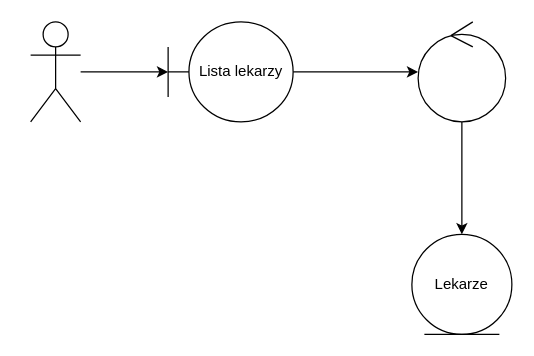
The diagram is 534 pixels wide and 356 high, and some of its shapes have lost their labels. Each missing label, with the box of its shape:
Pracownik: (29, 21, 81, 122)
Sprawdzanie dsotępności: (417, 21, 506, 122)
